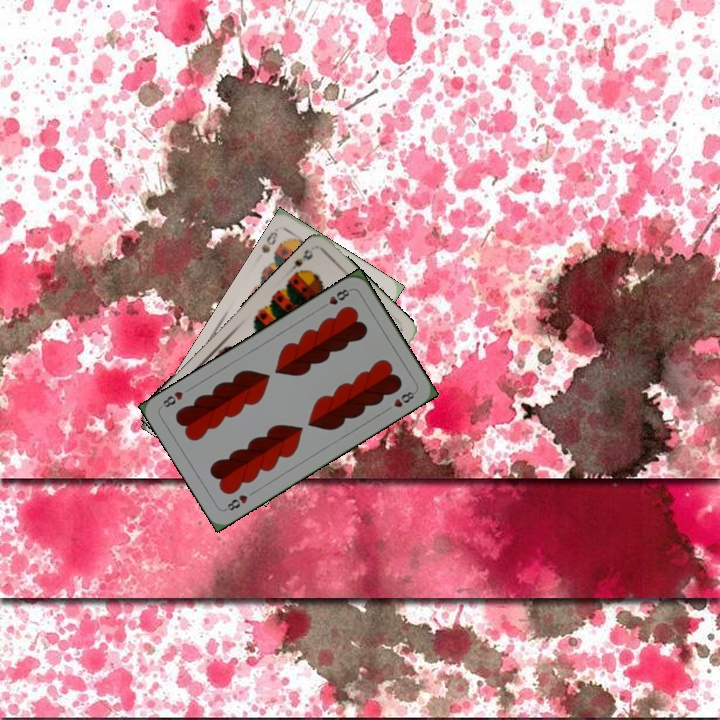H8: (317, 285, 354, 311), (221, 490, 250, 513)
S8: (257, 224, 281, 256)
S9: (284, 246, 316, 279)
